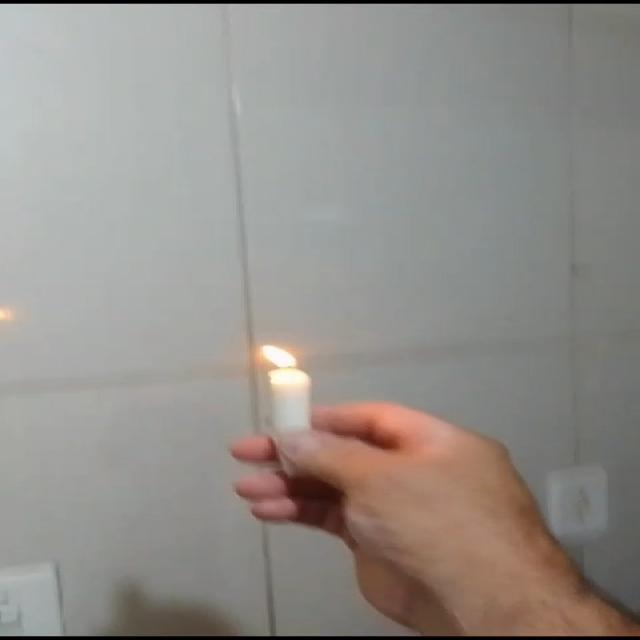fogo-ypXI: (253, 344, 302, 370)
